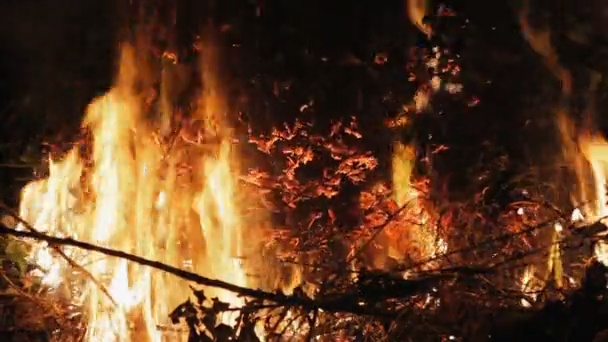fire: (17, 54, 276, 342), (571, 131, 608, 225), (388, 141, 419, 213), (596, 241, 608, 263)
